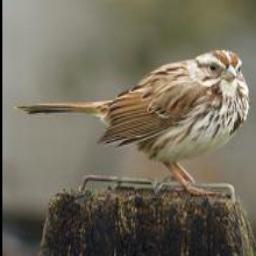Sparrow: (16, 47, 250, 197)
